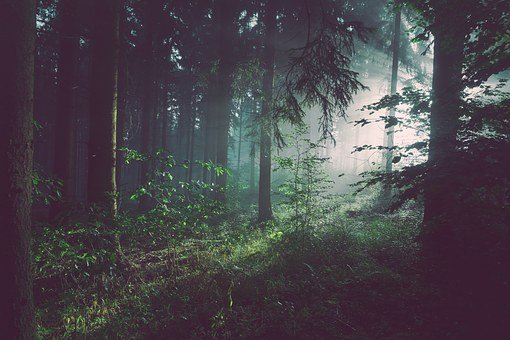forest: (15, 7, 503, 334)
tree: (136, 1, 359, 228), (373, 4, 500, 319), (6, 1, 133, 315)
